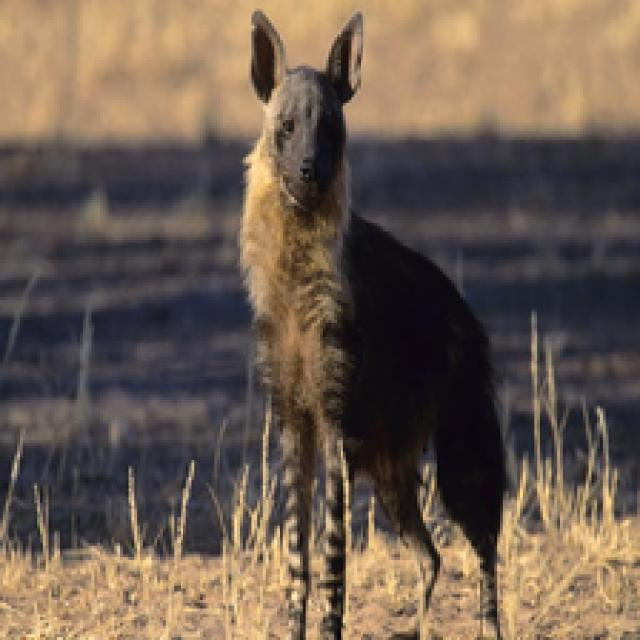hyena: (219, 9, 534, 638)
